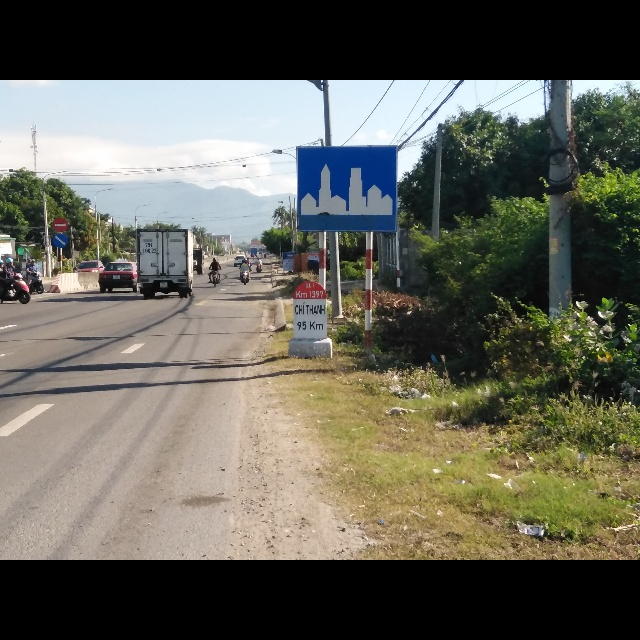Khu đông dân cư: (293, 146, 398, 233)
